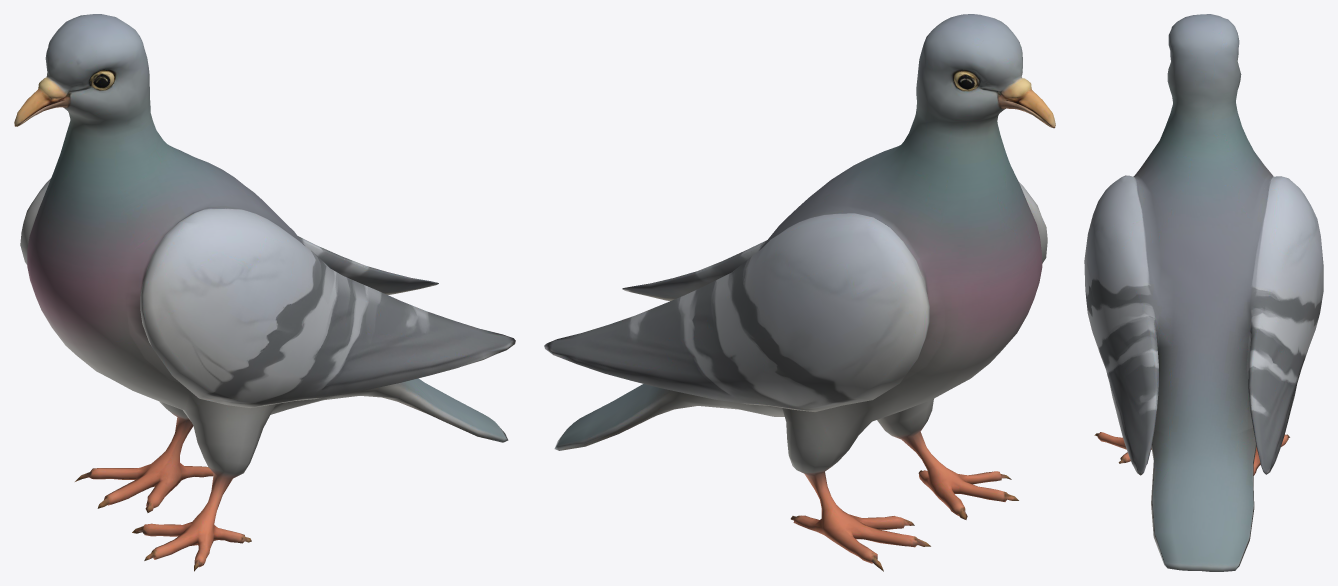
The picture shows the model from 3 angles, left to right: view 1: azimuth 30°, elevation 25°; view 2: azimuth 150°, elevation 25°; view 3: azimuth 270°, elevation 25°; orthographic projection. The views are drawn at different scales.
Visible parts, largest first — view 1: tripo_node_d7f7ae97-a975-40c6-9192-fb2917d53dc1; view 2: tripo_node_d7f7ae97-a975-40c6-9192-fb2917d53dc1; view 3: tripo_node_d7f7ae97-a975-40c6-9192-fb2917d53dc1.
Boxes of the visible parts, x1,y1,x2,y2 form: tripo_node_d7f7ae97-a975-40c6-9192-fb2917d53dc1: [14, 14, 515, 571]; tripo_node_d7f7ae97-a975-40c6-9192-fb2917d53dc1: [544, 14, 1055, 571]; tripo_node_d7f7ae97-a975-40c6-9192-fb2917d53dc1: [1084, 14, 1323, 571].
Size of the model in its own units: 0.9824 by 0.998 by 0.5332.
Materials: 1 (1 with a texture image).
